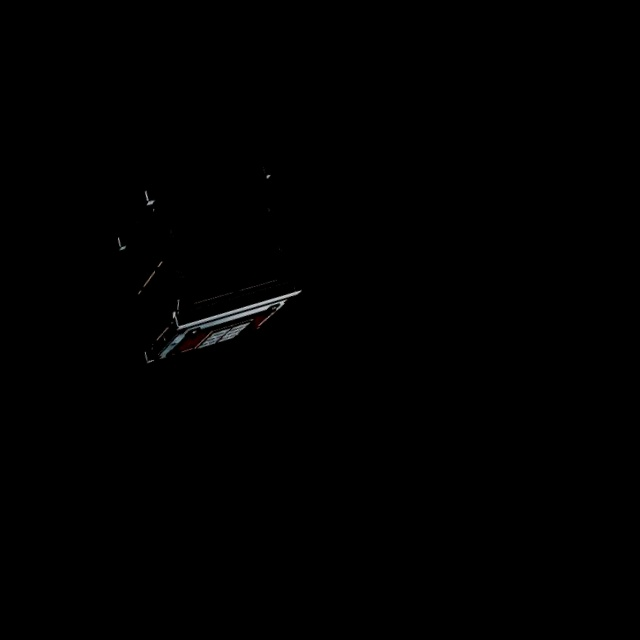medium_debris: (84, 135, 315, 387)
